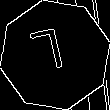L_S: (34, 27, 76, 83)
